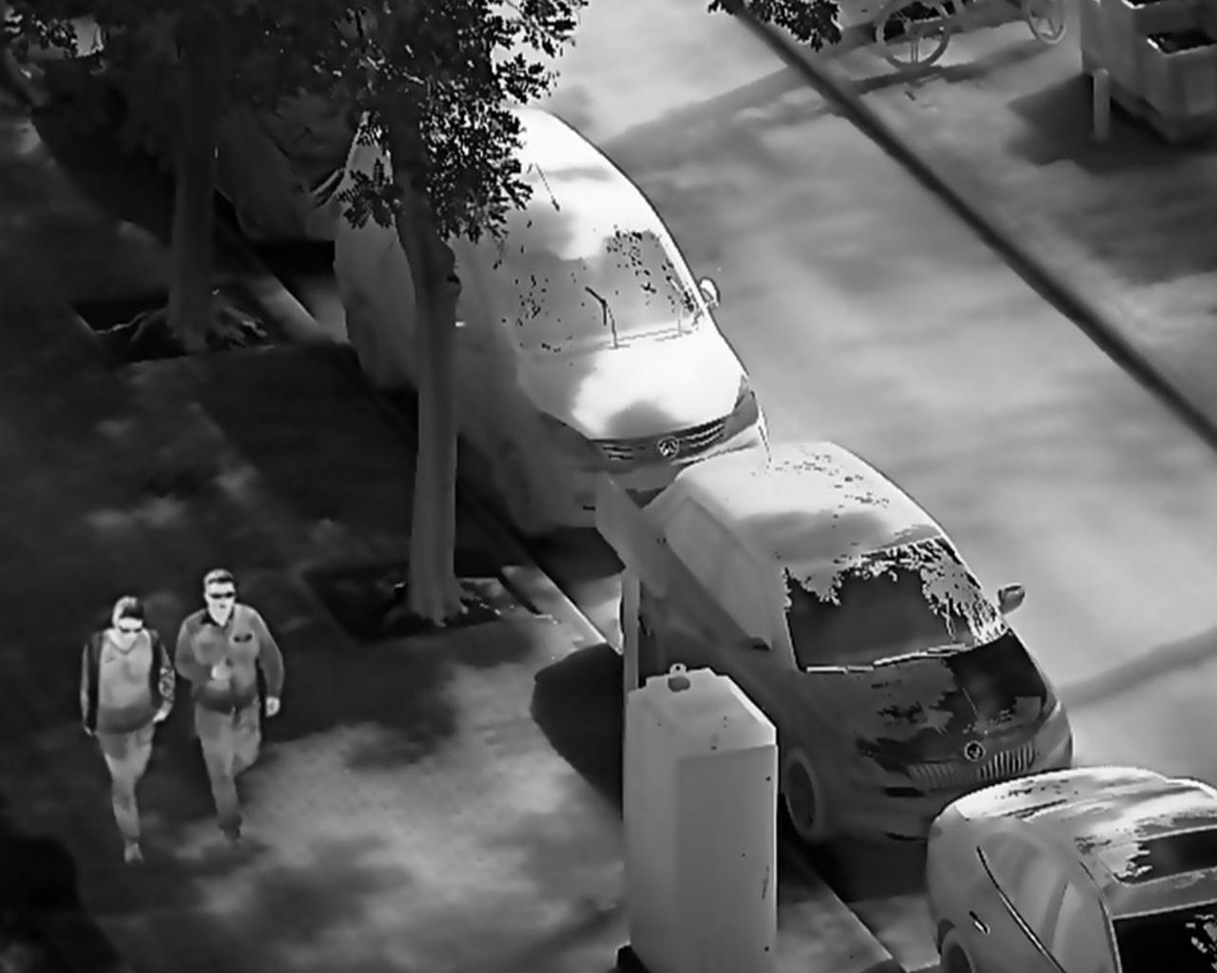person: (171, 568, 286, 862), (76, 594, 177, 869)
